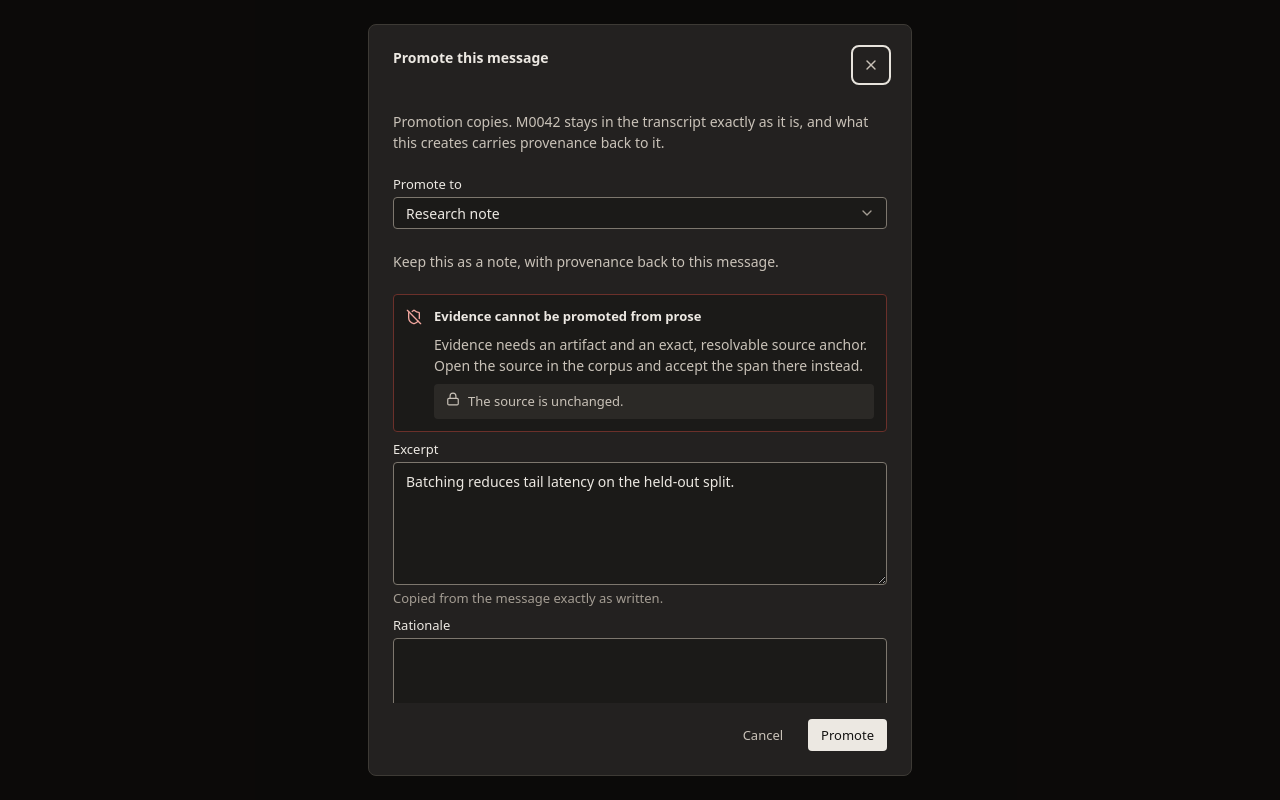
Test: a promotion that succeeded › names what it created and says it is not accepted
Click the button "Promote" at [848, 735], box x1=808 y1=719 x2=887 y2=751
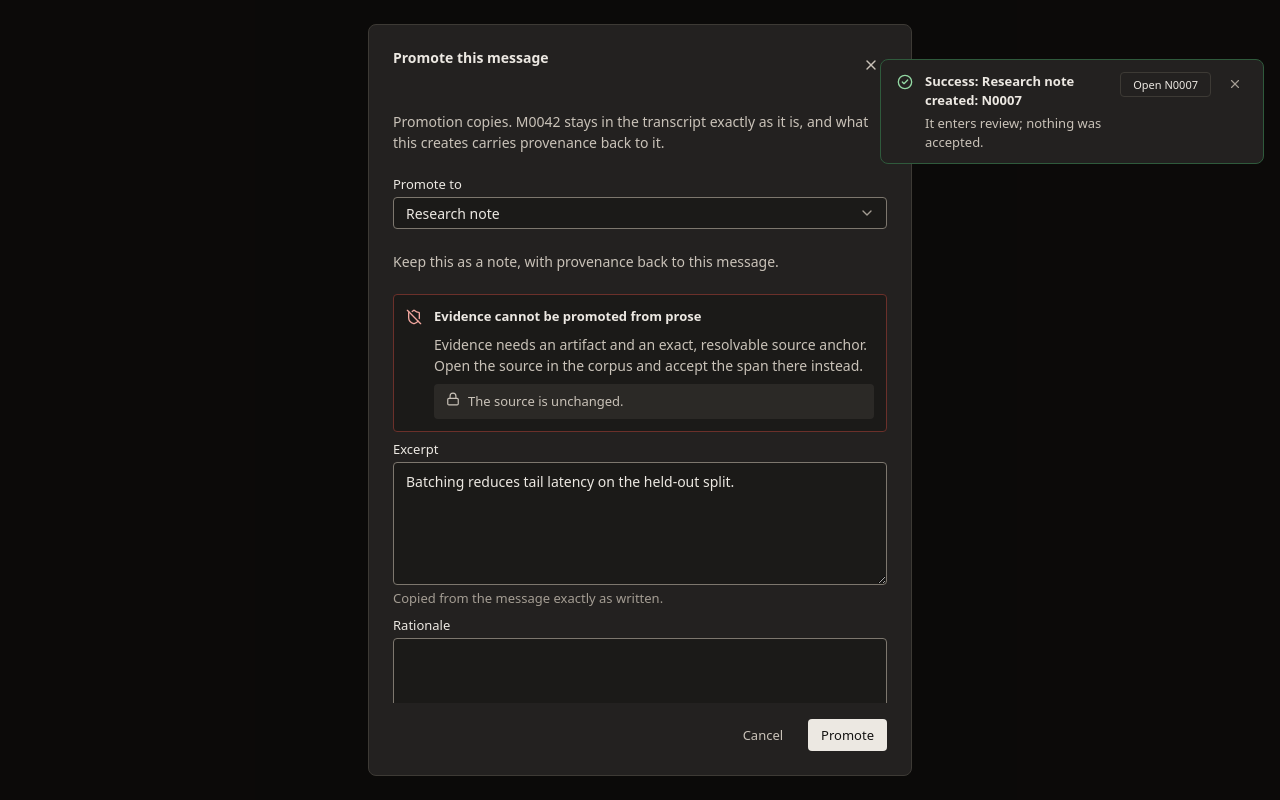
Result: the text "Research note created: N0007" shows "nothing was accepted" at x1=925 y1=114 x2=1101 y2=150
Result: the button "Open N0007" is shown at x1=1120 y1=72 x2=1211 y2=97
